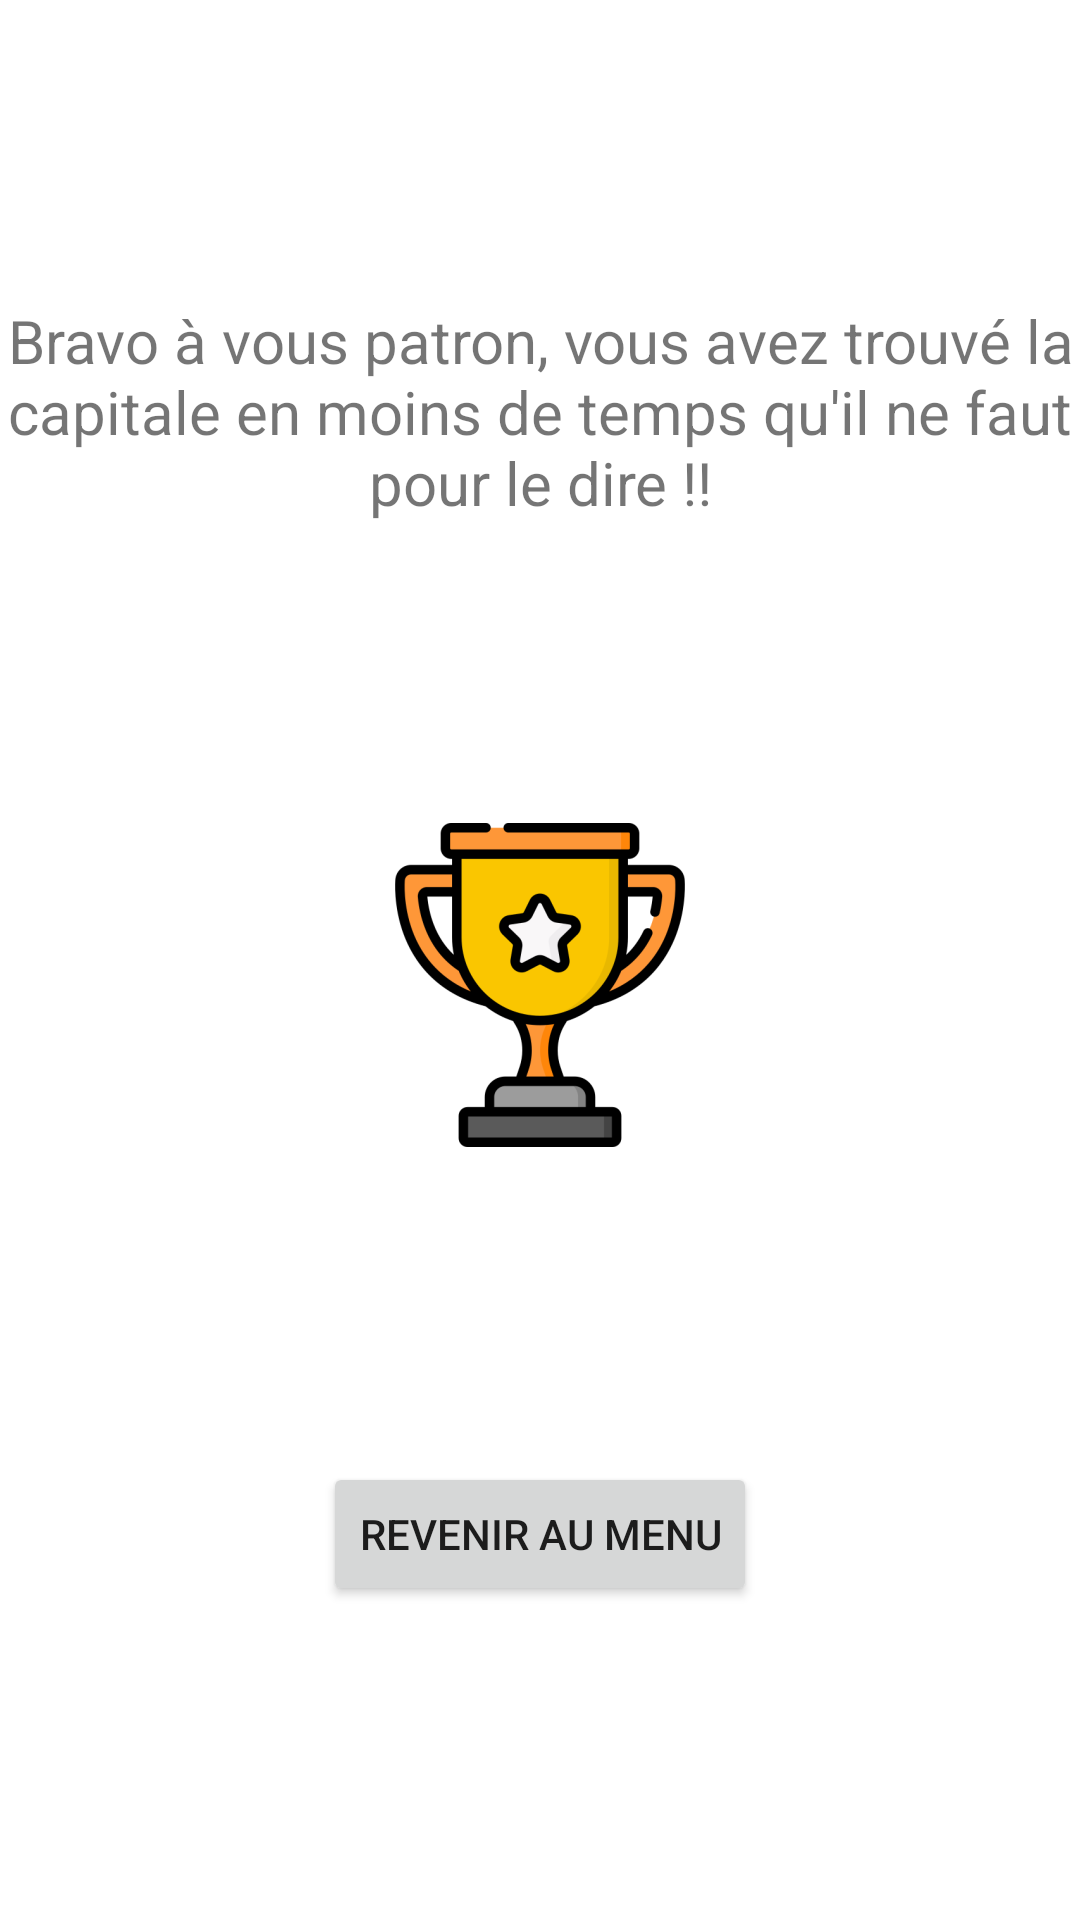

Where icons sit on this 1080px x 1920px app screen, as bbox=[x1, y1, x2, y2]:
trophy cup: bbox=[395, 823, 685, 1147]
